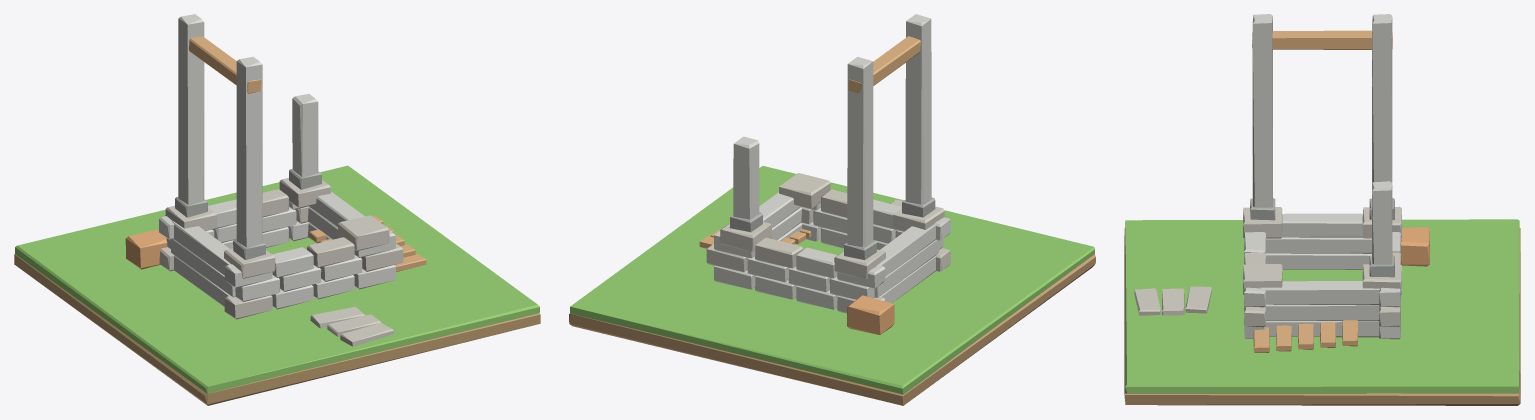
The model's file is tower_l04_construction_LOD1.glb.
3 views of the same model, side by side, from view 1: azimuth 30°, elevation 25°; view 2: azimuth 150°, elevation 25°; view 3: azimuth 270°, elevation 25° (orthographic). The views are drawn at different scales.
Visible parts, largest first — view 1: tower_l04_grass_tile_tower_l04_construction_LOD1_tmp, tower_l04_earth_tile_tower_l04_construction_LOD1_tmp, post_-0.61_-0.54_tower_l04_construction_LOD1_tmp, post_-0.61_0.54_tower_l04_construction_LOD1_tmp, post_0.61_0.54_tower_l04_construction_LOD1_tmp, stone_return_2_-0.72_tower_l04_construction_LOD1_tmp, foot_0.61_-0.54_tower_l04_construction_LOD1_tmp, temporary_crossbar_tower_l04_construction_LOD1_tmp, unmounted_instrument_case_tower_l04_construction_LOD1_tmp, stone_course_2_-1_2_tower_l04_construction_LOD1_tmp, stone_return_1_-0.72_tower_l04_construction_LOD1_tmp, stone_return_2_0.72_tower_l04_construction_LOD1_tmp (+21 smaller); view 2: tower_l04_grass_tile_tower_l04_construction_LOD1_tmp, tower_l04_earth_tile_tower_l04_construction_LOD1_tmp, post_-0.61_0.54_tower_l04_construction_LOD1_tmp, post_-0.61_-0.54_tower_l04_construction_LOD1_tmp, post_0.61_0.54_tower_l04_construction_LOD1_tmp, unmounted_instrument_case_tower_l04_construction_LOD1_tmp, stone_return_2_-0.72_tower_l04_construction_LOD1_tmp, temporary_crossbar_tower_l04_construction_LOD1_tmp, foot_0.61_-0.54_tower_l04_construction_LOD1_tmp, stone_course_2_1_2_tower_l04_construction_LOD1_tmp, stone_return_1_-0.72_tower_l04_construction_LOD1_tmp, foot_0.61_0.54_tower_l04_construction_LOD1_tmp (+17 smaller); view 3: tower_l04_grass_tile_tower_l04_construction_LOD1_tmp, tower_l04_earth_tile_tower_l04_construction_LOD1_tmp, post_-0.61_-0.54_tower_l04_construction_LOD1_tmp, post_-0.61_0.54_tower_l04_construction_LOD1_tmp, stone_return_2_0.72_tower_l04_construction_LOD1_tmp, stone_return_2_-0.72_tower_l04_construction_LOD1_tmp, temporary_crossbar_tower_l04_construction_LOD1_tmp, stone_return_1_0.72_tower_l04_construction_LOD1_tmp, stone_return_1_-0.72_tower_l04_construction_LOD1_tmp, post_0.61_0.54_tower_l04_construction_LOD1_tmp, stone_return_0_-0.72_tower_l04_construction_LOD1_tmp, unmounted_instrument_case_tower_l04_construction_LOD1_tmp (+20 smaller).
Part boxes in pixels (bbox=[...]): tower_l04_grass_tile_tower_l04_construction_LOD1_tmp: bbox=[15, 165, 539, 393]; tower_l04_earth_tile_tower_l04_construction_LOD1_tmp: bbox=[14, 254, 540, 405]; post_-0.61_-0.54_tower_l04_construction_LOD1_tmp: bbox=[236, 56, 262, 247]; post_-0.61_0.54_tower_l04_construction_LOD1_tmp: bbox=[178, 14, 204, 204]; post_0.61_0.54_tower_l04_construction_LOD1_tmp: bbox=[292, 94, 318, 176]; stone_return_2_-0.72_tower_l04_construction_LOD1_tmp: bbox=[172, 221, 230, 275]; foot_0.61_-0.54_tower_l04_construction_LOD1_tmp: bbox=[338, 215, 389, 251]; temporary_crossbar_tower_l04_construction_LOD1_tmp: bbox=[189, 36, 261, 93]; unmounted_instrument_case_tower_l04_construction_LOD1_tmp: bbox=[125, 229, 167, 269]; stone_course_2_-1_2_tower_l04_construction_LOD1_tmp: bbox=[307, 237, 354, 267]; stone_return_1_-0.72_tower_l04_construction_LOD1_tmp: bbox=[170, 239, 235, 297]; stone_return_2_0.72_tower_l04_construction_LOD1_tmp: bbox=[309, 191, 364, 227]; tower_l04_grass_tile_tower_l04_construction_LOD1_tmp: bbox=[570, 166, 1094, 394]; tower_l04_earth_tile_tower_l04_construction_LOD1_tmp: bbox=[569, 254, 1095, 405]; post_-0.61_0.54_tower_l04_construction_LOD1_tmp: bbox=[847, 56, 873, 247]; post_-0.61_-0.54_tower_l04_construction_LOD1_tmp: bbox=[905, 14, 931, 204]; post_0.61_0.54_tower_l04_construction_LOD1_tmp: bbox=[733, 136, 759, 219]; unmounted_instrument_case_tower_l04_construction_LOD1_tmp: bbox=[847, 295, 894, 334]; stone_return_2_-0.72_tower_l04_construction_LOD1_tmp: bbox=[876, 224, 936, 276]; temporary_crossbar_tower_l04_construction_LOD1_tmp: bbox=[848, 36, 920, 93]; foot_0.61_-0.54_tower_l04_construction_LOD1_tmp: bbox=[779, 173, 830, 208]; stone_course_2_1_2_tower_l04_construction_LOD1_tmp: bbox=[755, 237, 802, 268]; stone_return_1_-0.72_tower_l04_construction_LOD1_tmp: bbox=[874, 239, 939, 297]; foot_0.61_0.54_tower_l04_construction_LOD1_tmp: bbox=[720, 221, 771, 251]; tower_l04_grass_tile_tower_l04_construction_LOD1_tmp: bbox=[1125, 219, 1519, 393]; tower_l04_earth_tile_tower_l04_construction_LOD1_tmp: bbox=[1124, 227, 1520, 405]; post_-0.61_-0.54_tower_l04_construction_LOD1_tmp: bbox=[1252, 14, 1272, 207]; post_-0.61_0.54_tower_l04_construction_LOD1_tmp: bbox=[1372, 14, 1392, 188]; stone_return_2_0.72_tower_l04_construction_LOD1_tmp: bbox=[1260, 281, 1379, 305]; stone_return_2_-0.72_tower_l04_construction_LOD1_tmp: bbox=[1282, 213, 1363, 237]; temporary_crossbar_tower_l04_construction_LOD1_tmp: bbox=[1252, 30, 1392, 49]; stone_return_1_0.72_tower_l04_construction_LOD1_tmp: bbox=[1265, 304, 1379, 321]; stone_return_1_-0.72_tower_l04_construction_LOD1_tmp: bbox=[1266, 237, 1371, 253]; post_0.61_0.54_tower_l04_construction_LOD1_tmp: bbox=[1372, 181, 1392, 264]; stone_return_0_-0.72_tower_l04_construction_LOD1_tmp: bbox=[1266, 253, 1371, 269]; unmounted_instrument_case_tower_l04_construction_LOD1_tmp: bbox=[1401, 227, 1429, 266].
Bounding box in the file's own units: 3.6 × 2.77 × 3.58.
